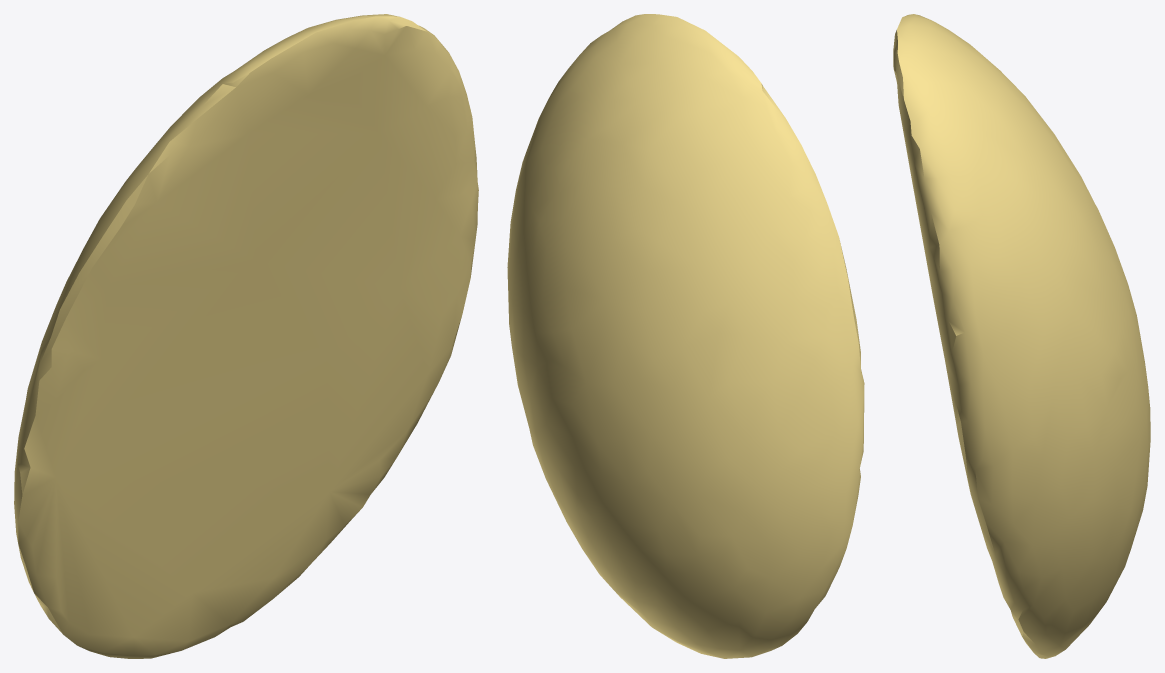
File: fma54626_mm3506.glb
3 renders of one model, left to right at view 1: azimuth 30°, elevation 25°; view 2: azimuth 150°, elevation 25°; view 3: azimuth 270°, elevation 25°, orthographic. The views are drawn at different scales.
Parts seen in each view (by area): view 1: FMA54626_MM3506; view 2: FMA54626_MM3506; view 3: FMA54626_MM3506.
Part boxes in pixels (<box>): FMA54626_MM3506: <box>14,14,478,658</box>; FMA54626_MM3506: <box>507,14,864,658</box>; FMA54626_MM3506: <box>893,14,1150,658</box>.
Size of the model in its own units: 0.0025 by 0.00368 by 0.00129.
